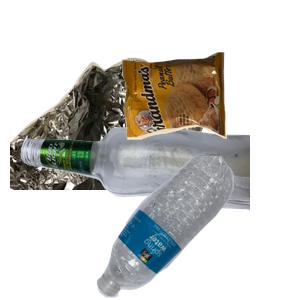glass: (18, 124, 258, 300)
metal: (10, 47, 216, 227)
plastic: (94, 156, 300, 300)
trash: (120, 50, 300, 182)
